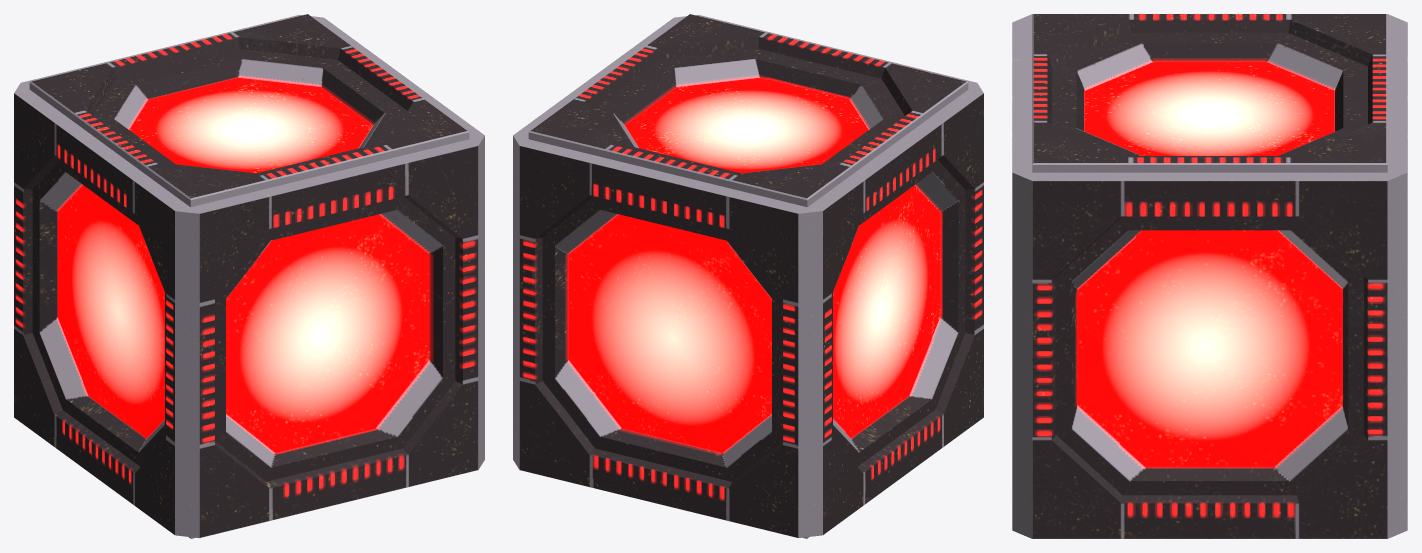
File: Heal Box hp.fbx
3 renders of one model, left to right at view 1: azimuth 30°, elevation 25°; view 2: azimuth 150°, elevation 25°; view 3: azimuth 270°, elevation 25°, orthographic. The views are drawn at different scales.
Parts seen in each view (by area): view 1: box_hp; view 2: box_hp; view 3: box_hp.
Part boxes in pixels (left/top/right/bottom): box_hp: left=14, top=14, right=484, bottom=538; box_hp: left=513, top=14, right=983, bottom=538; box_hp: left=1012, top=14, right=1407, bottom=538.
Bounding box in the file's own units: 200 × 210 × 200.
1 material, 1 textured.
